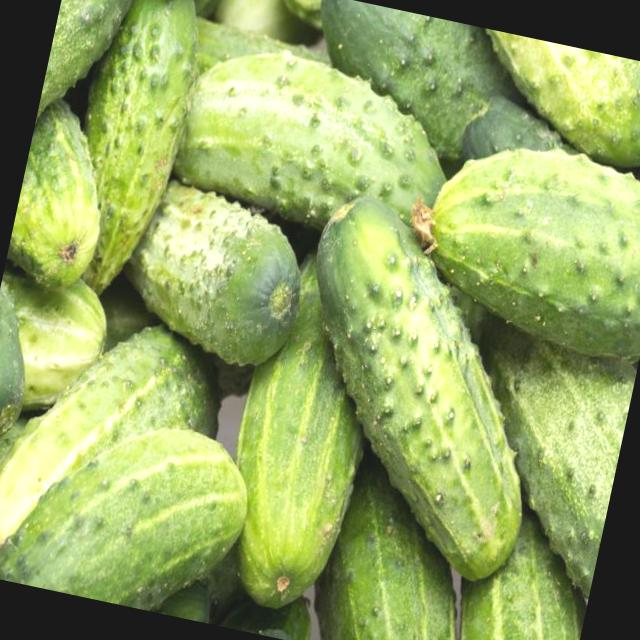Cucumber: (259, 189, 575, 587), (205, 250, 398, 616), (0, 388, 255, 621), (418, 131, 640, 357), (54, 0, 216, 294)
